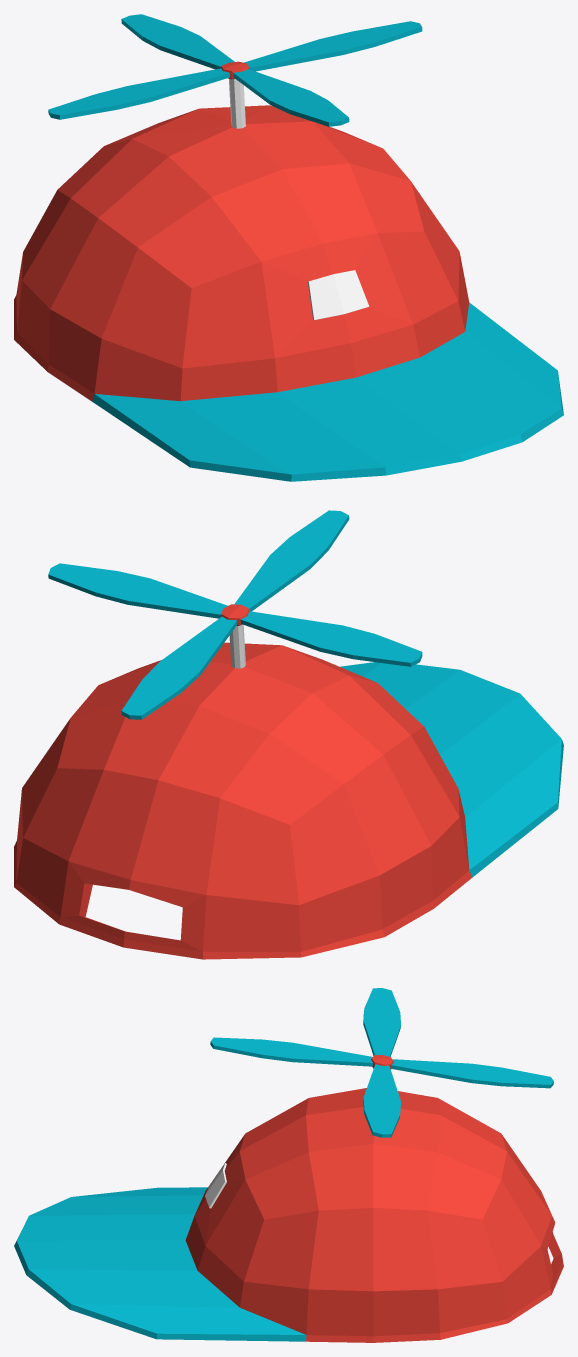
Rendered from hat_009.obj.
The picture shows the model from 3 angles, top to bottom: view 1: azimuth 30°, elevation 25°; view 2: azimuth 150°, elevation 25°; view 3: azimuth 270°, elevation 25°; orthographic projection. The views are drawn at different scales.
Parts seen in each view (by area): view 1: object_0_Propeller_hat_01; view 2: object_0_Propeller_hat_01; view 3: object_0_Propeller_hat_01.
Part boxes in pixels (x1=…): object_0_Propeller_hat_01: x1=14, y1=14, x2=563, y2=481; object_0_Propeller_hat_01: x1=14, y1=510, x2=563, y2=959; object_0_Propeller_hat_01: x1=14, y1=988, x2=563, y2=1342.
Bounding box in the file's own units: 4.12 × 2.83 × 6.25.
